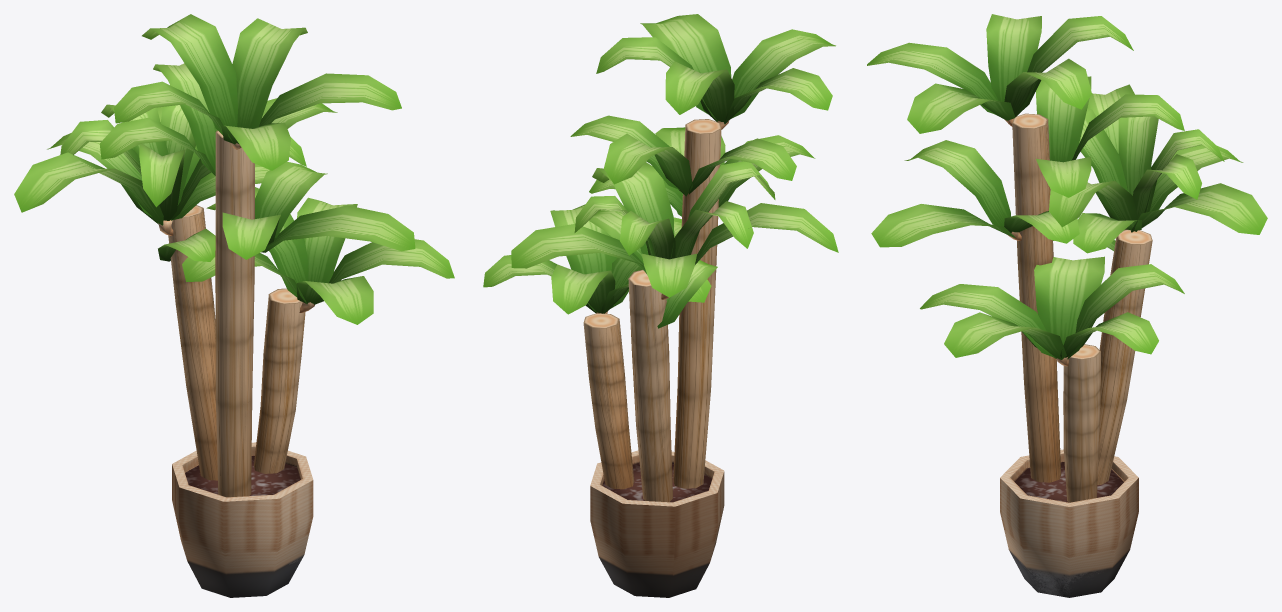
Rendered from corridor_object_plant_2.FBX.
The picture shows the model from 3 angles, left to right: view 1: azimuth 30°, elevation 25°; view 2: azimuth 150°, elevation 25°; view 3: azimuth 270°, elevation 25°; orthographic projection. The views are drawn at different scales.
Visible parts, largest first — view 1: Cylinder036; view 2: Cylinder036; view 3: Cylinder036.
Boxes of the visible parts, bbox=[...] form: Cylinder036: bbox=[14, 14, 454, 597]; Cylinder036: bbox=[483, 14, 838, 597]; Cylinder036: bbox=[867, 14, 1267, 597].
Bounding box in the file's own units: 429 × 626 × 431.
1 material, 1 textured.
